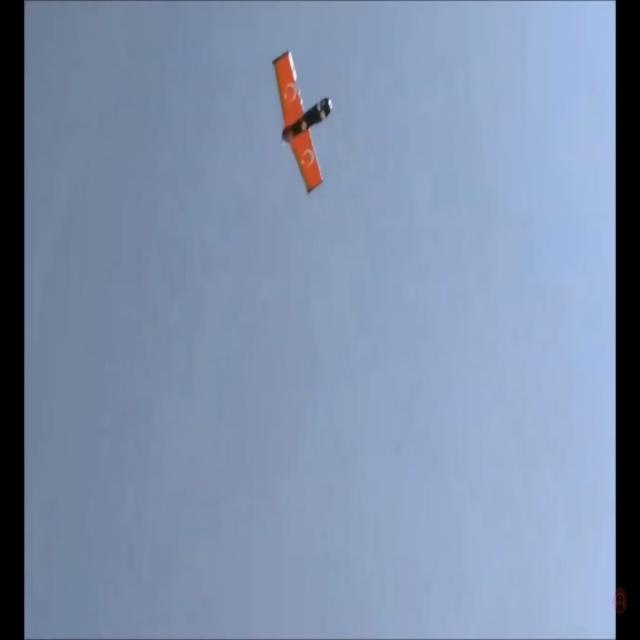iha: (270, 0, 333, 131)
